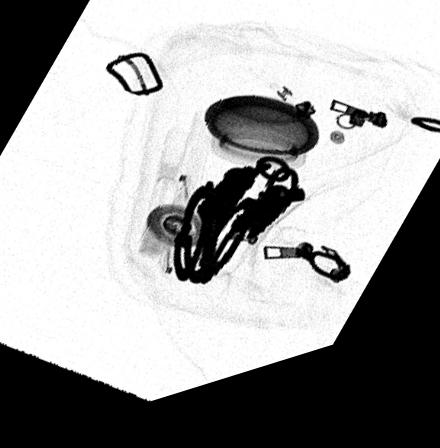HandCuffs: (169, 171, 303, 297)
